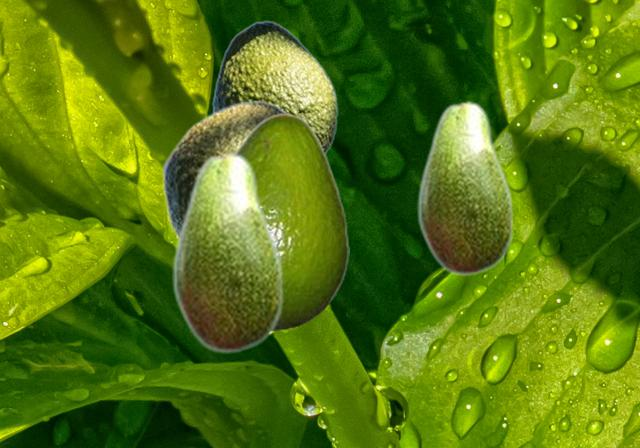avocado: (233, 112, 348, 329), (172, 150, 283, 354), (161, 100, 288, 241), (211, 20, 337, 155), (417, 99, 513, 276)
